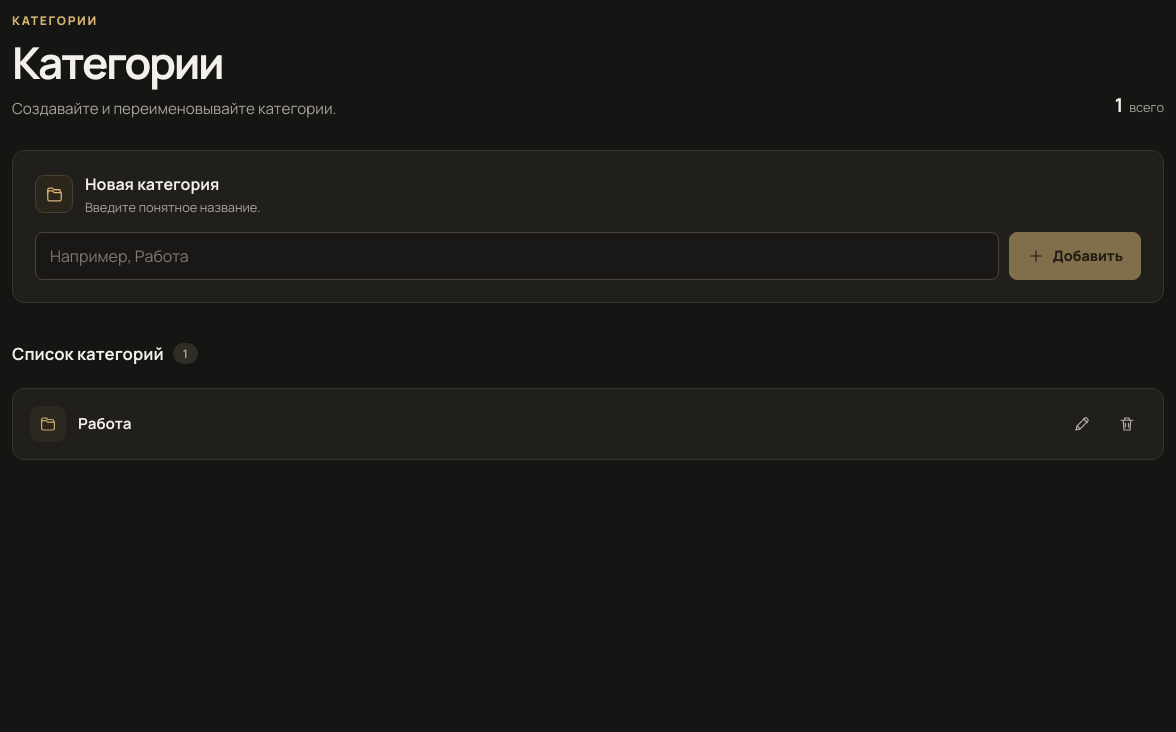
Scenario: Categories › keeps the category when deletion fails
The image size is (1176, 732).
Expected: the heading "Работа" is shown, [78,413,131,434]
Click the button named "Удалить категорию: Работа" at point(1127, 424), box [1108,405,1146,443]
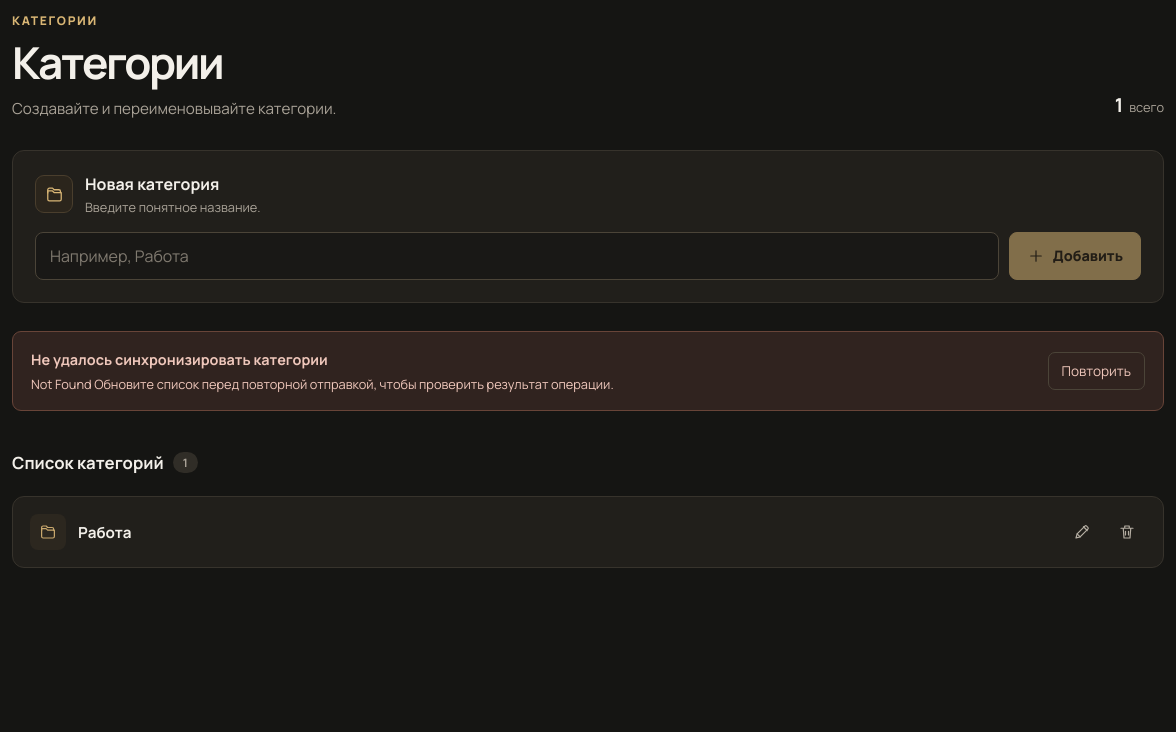
Expected: the heading "Работа" is shown, [78,522,131,543]
Expected: the message is shown, [12,331,1164,411]
